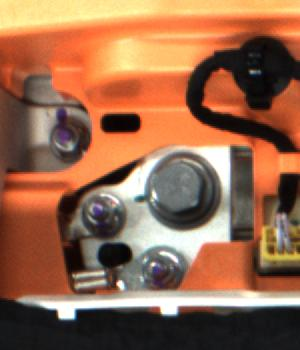nut_b: (141, 152, 217, 228)
screw_s: (139, 246, 185, 293), (81, 191, 121, 232), (42, 118, 81, 158)
